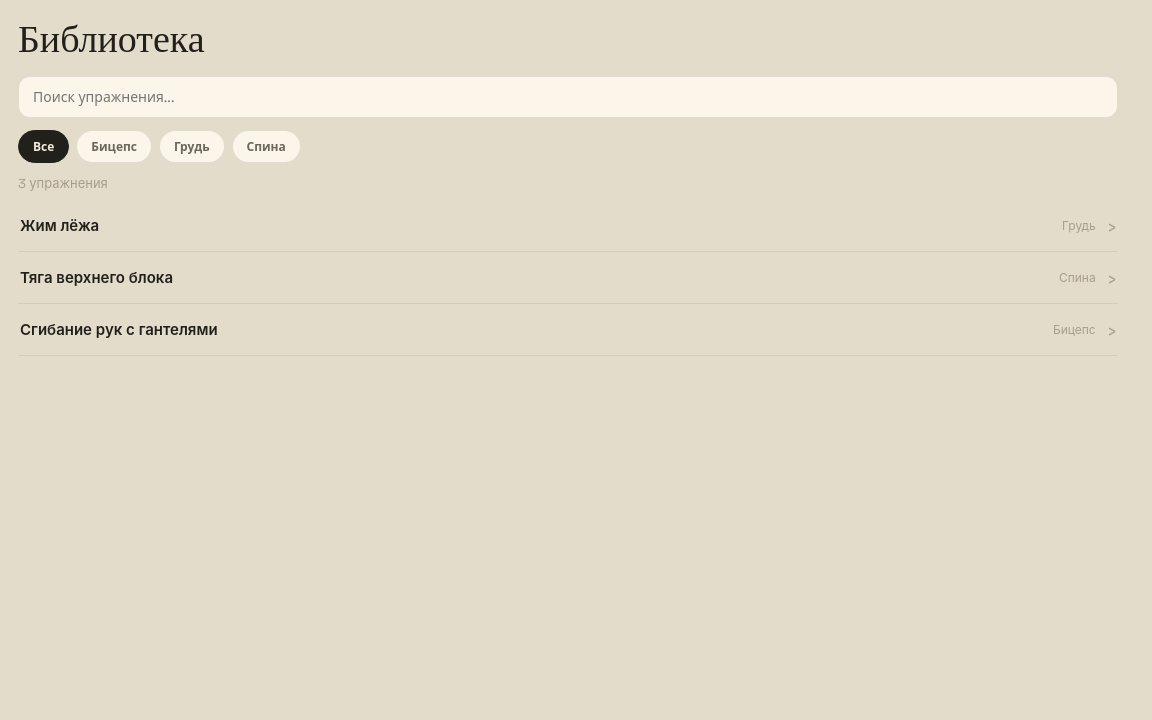
Test: ExerciseLibraryScreen › opens a 3/4 exercise guide sheet with image, description and instructions when a library card is pressed
What coordinates should you click on to do the following:
click the button with aria-label "Открыть Жим"
I would click on:
 (60, 226)
Its box is x1=18 y1=200 x2=1118 y2=252.
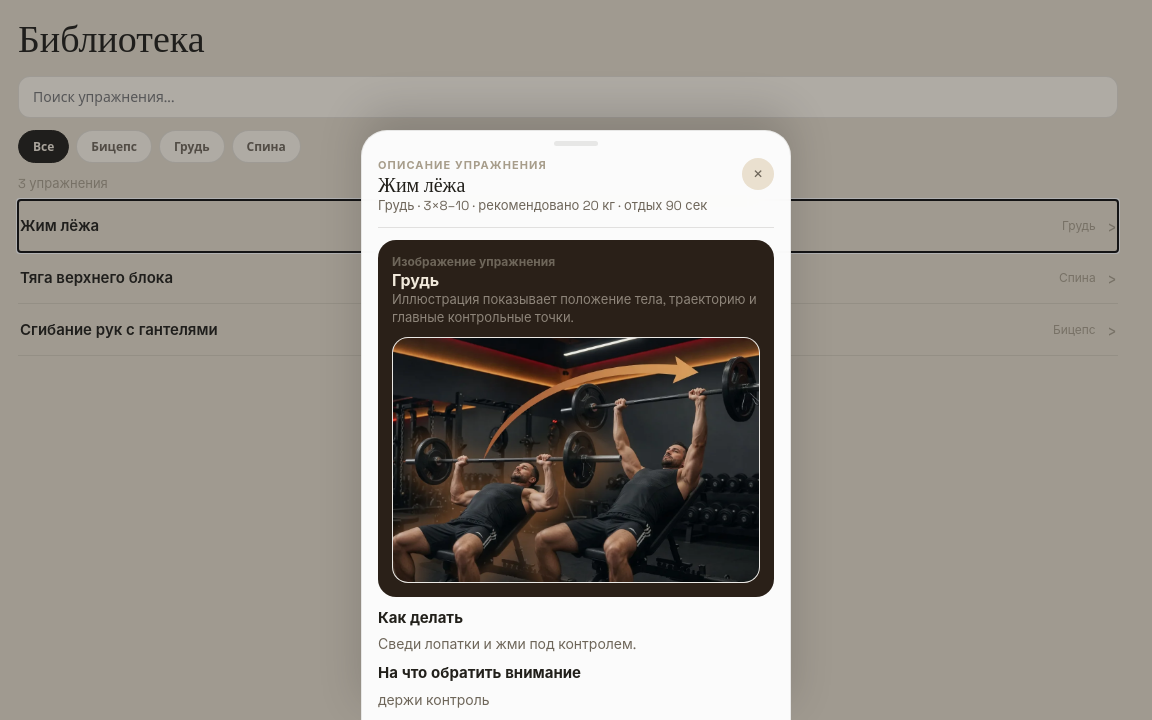
Expected: the dialog "Описание упражнения Жим лёжа" is shown, x1=361 y1=130 x2=791 y2=719
Expected: the picture named "иллюстрация упражнения жим лёжа" is shown, x1=392 y1=337 x2=760 y2=582
Expected: the heading "Как делать" is shown, x1=378 y1=608 x2=463 y2=626
